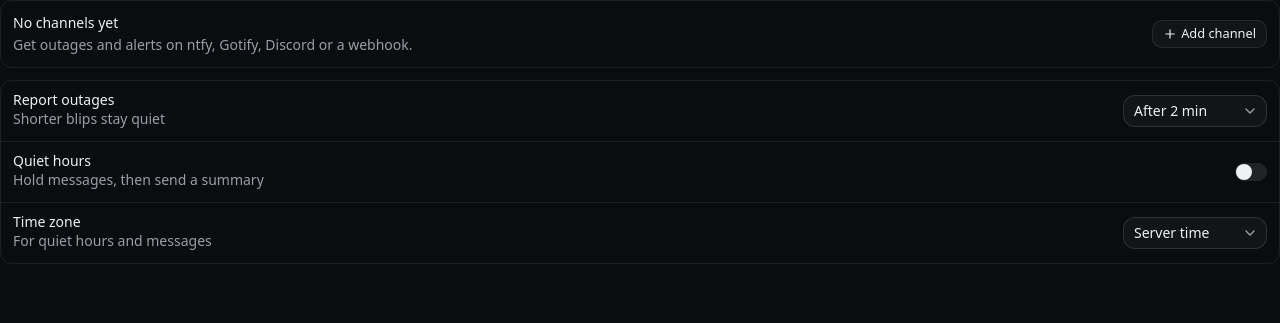
Scenario: NotificationSettings › saves quiet hours and keeps an empty window from saving
Click the switch named "Quiet hours" at (1251, 172), box [1235,163,1267,181]
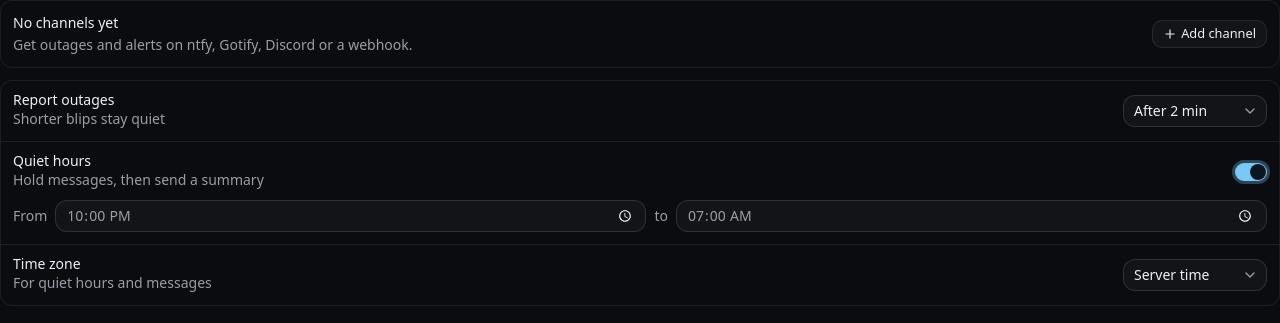
Replace the text in the time field named "Quiet hours start" with "23:30" at (351, 216), box [55,200,646,232]
Press Enter in the time field named "Quiet hours start", box [55,200,646,232]
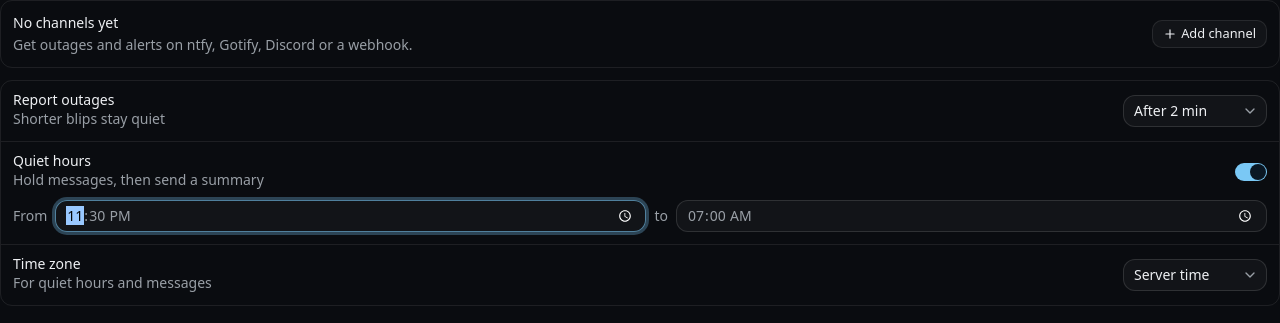
Replace the text in the time field named "Quiet hours start" with "22:15" at (351, 216), box [55,200,646,232]
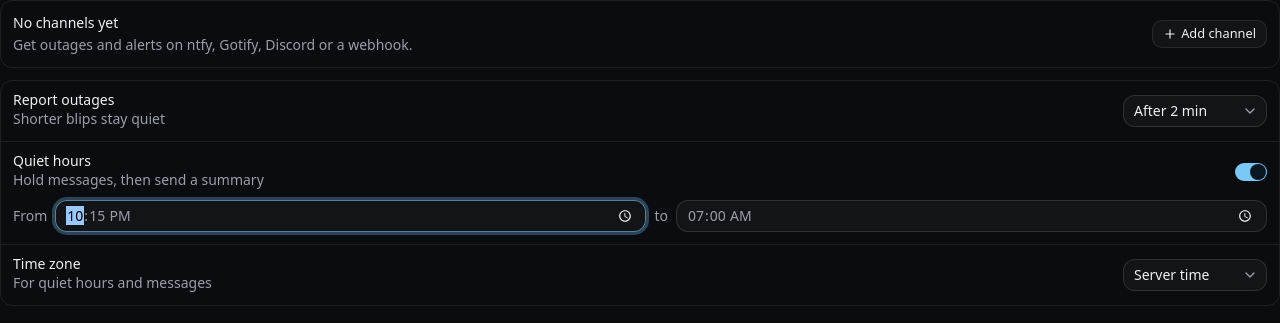
Press Tab
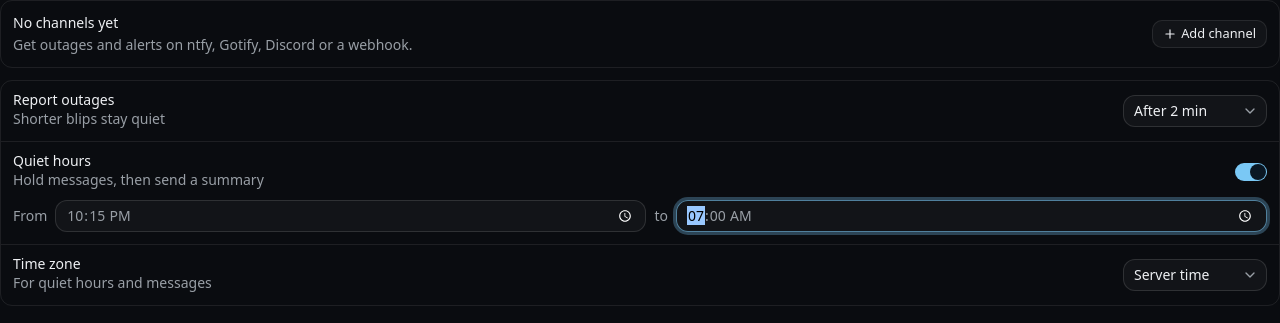
# A window that starts and ends at the same time goes back to the saved one.
Replace the text in the time field named "Quiet hours end" with "22:15" at (971, 216), box [676,200,1267,232]
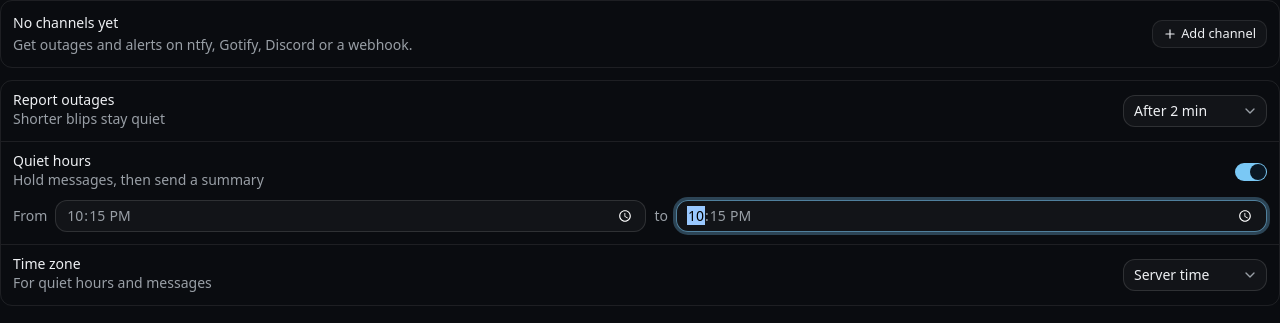
Leave the time field named "Quiet hours end", box [676,200,1267,232]
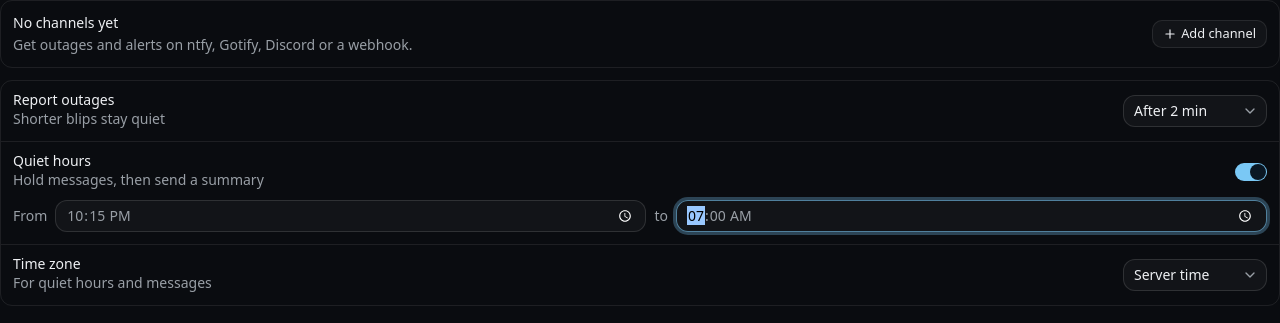
Expected: the time field named "Quiet hours end" holds "07:00", [676,200,1267,232]
